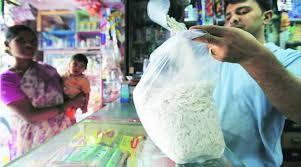Plastic bag: (116, 4, 232, 166)
